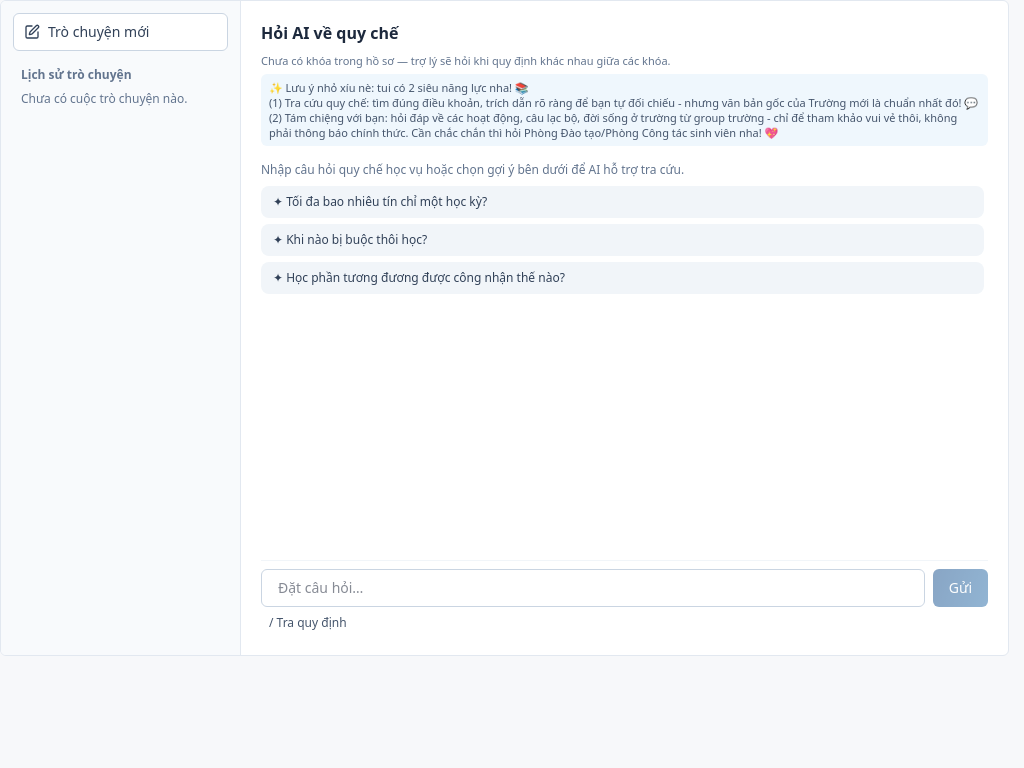
RegulationsPage › hiển thị khung chat, lịch sử và gửi câu hỏi có trích dẫn
Expected: the heading "Hỏi AI về quy chế" is shown, top-left (261, 21), bottom-right (398, 45)
Expected: the element "Lịch sử trò chuyện" is shown, top-left (1, 1), bottom-right (241, 655)
Type "Được đăng ký bao nhiêu tín chỉ?" into the field labelled "câu hỏi" at (593, 588), box top-left (261, 569), bottom-right (925, 607)
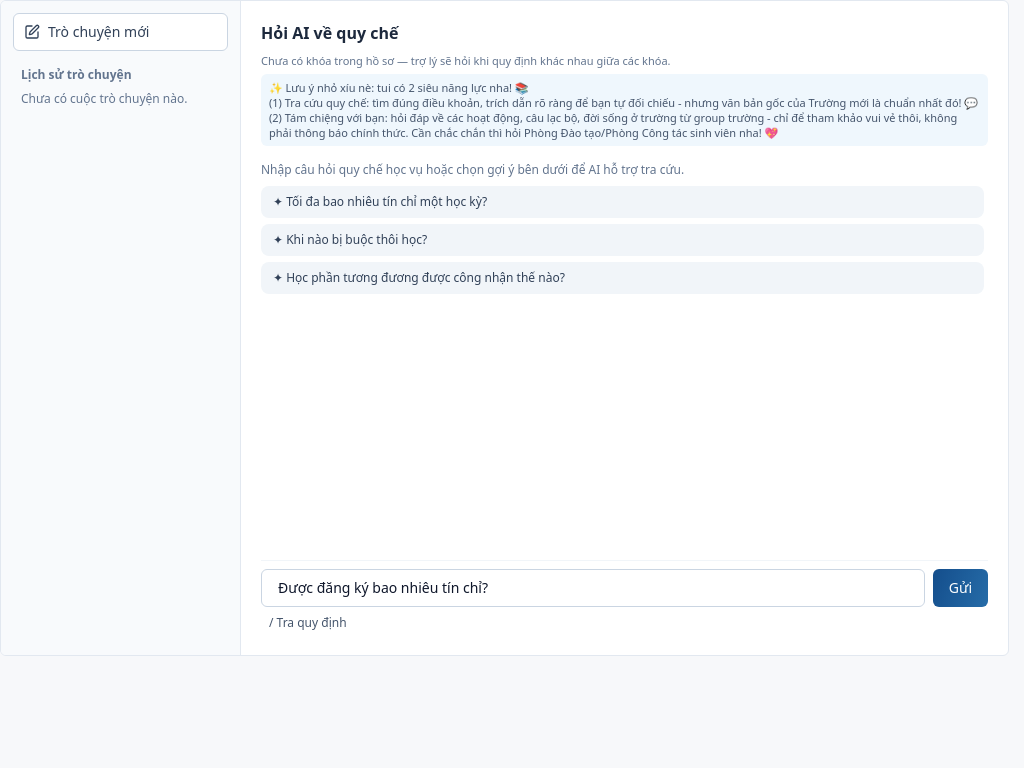
Click the button "Gửi" at (960, 588), box top-left (933, 569), bottom-right (988, 607)
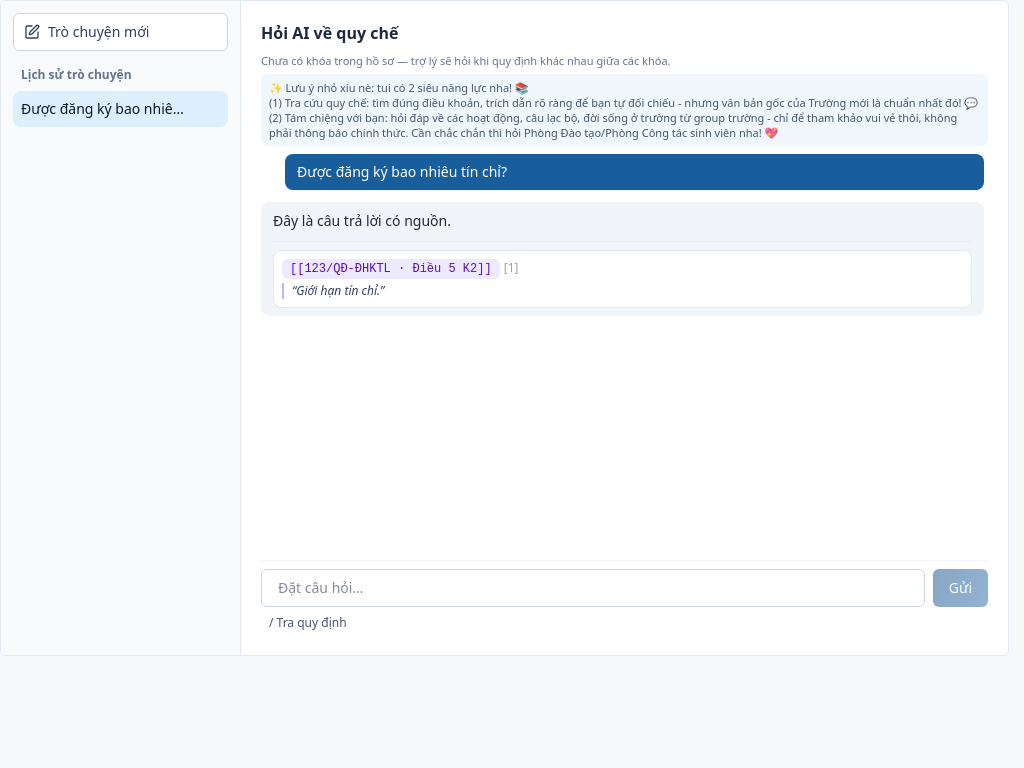
Result: the text "Đây là câu trả lời có nguồn." is shown at top-left (273, 211), bottom-right (451, 230)
